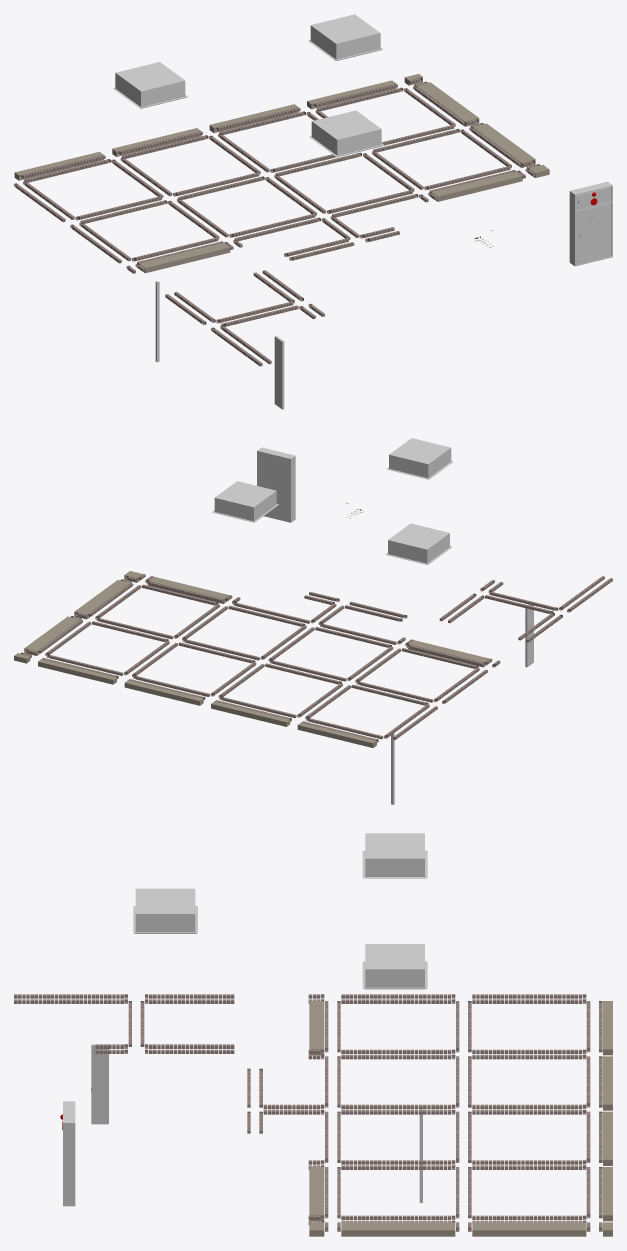
3 views of the same model, one above another, from view 1: azimuth 30°, elevation 25°; view 2: azimuth 150°, elevation 25°; view 3: azimuth 270°, elevation 25° (orthographic). The views are drawn at different scales.
Bounding box in the file's own units: 8.2 × 5.6 × 8.79.
